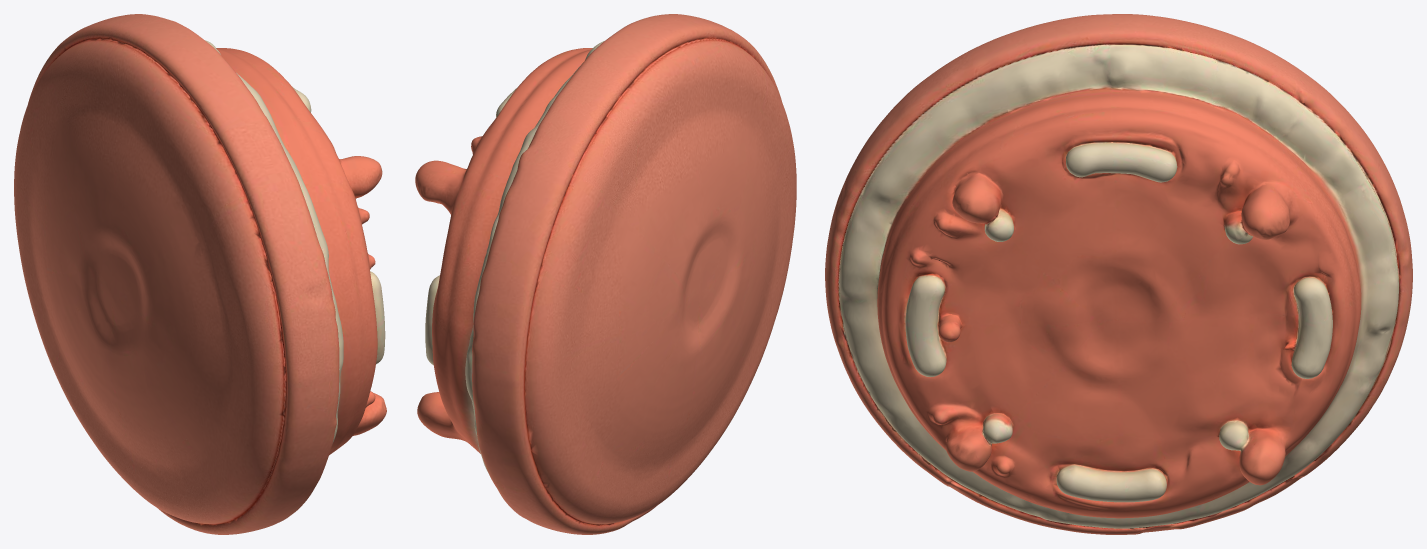
Rendered from env_nest_cookie_01.glb.
The picture shows the model from 3 angles, left to right: view 1: azimuth 30°, elevation 25°; view 2: azimuth 150°, elevation 25°; view 3: azimuth 270°, elevation 25°; orthographic projection. The views are drawn at different scales.
Parts seen in each view (by area): view 1: tripo_node_36fe569c-b649-4618-b93b-1b2063c05f6d; view 2: tripo_node_36fe569c-b649-4618-b93b-1b2063c05f6d; view 3: tripo_node_36fe569c-b649-4618-b93b-1b2063c05f6d.
Part boxes in pixels (<box>): tripo_node_36fe569c-b649-4618-b93b-1b2063c05f6d: <box>14,14,386,534</box>; tripo_node_36fe569c-b649-4618-b93b-1b2063c05f6d: <box>415,14,796,534</box>; tripo_node_36fe569c-b649-4618-b93b-1b2063c05f6d: <box>825,14,1412,534</box>.
Size of the model in its own units: 0.3842 by 0.8 by 0.8487.
1 material, 1 textured.
